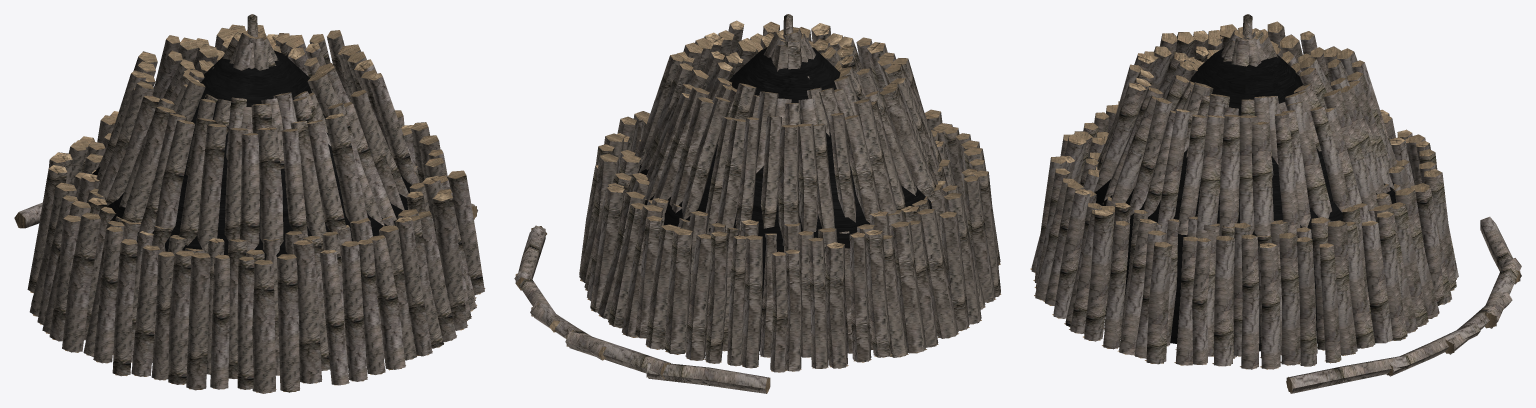
Rendered from kit_tw_clamp_a.glb.
3 views of the same model, side by side, from view 1: azimuth 30°, elevation 25°; view 2: azimuth 150°, elevation 25°; view 3: azimuth 270°, elevation 25° (orthographic). The views are drawn at different scales.
Visible parts, largest first — view 1: kit_tw_clamp_a; view 2: kit_tw_clamp_a; view 3: kit_tw_clamp_a.
Part boxes in pixels (x1,y1,x2,y2): kit_tw_clamp_a: (14,14,485,393); kit_tw_clamp_a: (514,14,1001,393); kit_tw_clamp_a: (1030,14,1521,393).
Size of the model in its own units: 3.73 by 2.31 by 3.78.
1 material, 1 textured.
